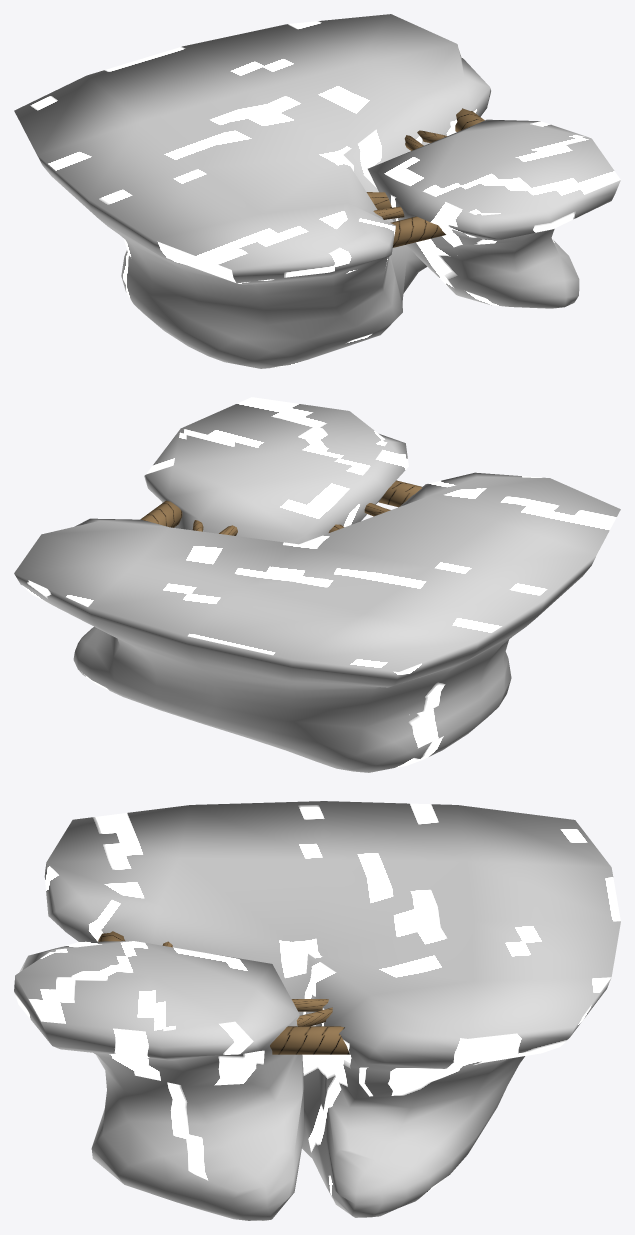
The model's file is PROJECT DREAM - Platform Broken.fbx.
The picture shows the model from 3 angles, top to bottom: view 1: azimuth 30°, elevation 25°; view 2: azimuth 150°, elevation 25°; view 3: azimuth 270°, elevation 25°; orthographic projection. The views are drawn at different scales.
Parts seen in each view (by area): view 1: Small Platform Broken; view 2: Small Platform Broken; view 3: Small Platform Broken.
Part boxes in pixels (x1=…): Small Platform Broken: x1=14, y1=14, x2=620, y2=368; Small Platform Broken: x1=14, y1=397, x2=620, y2=772; Small Platform Broken: x1=14, y1=801, x2=620, y2=1220.
Bounding box in the file's own units: 560 × 231 × 584.
Materials: 2 (1 with a texture image).
